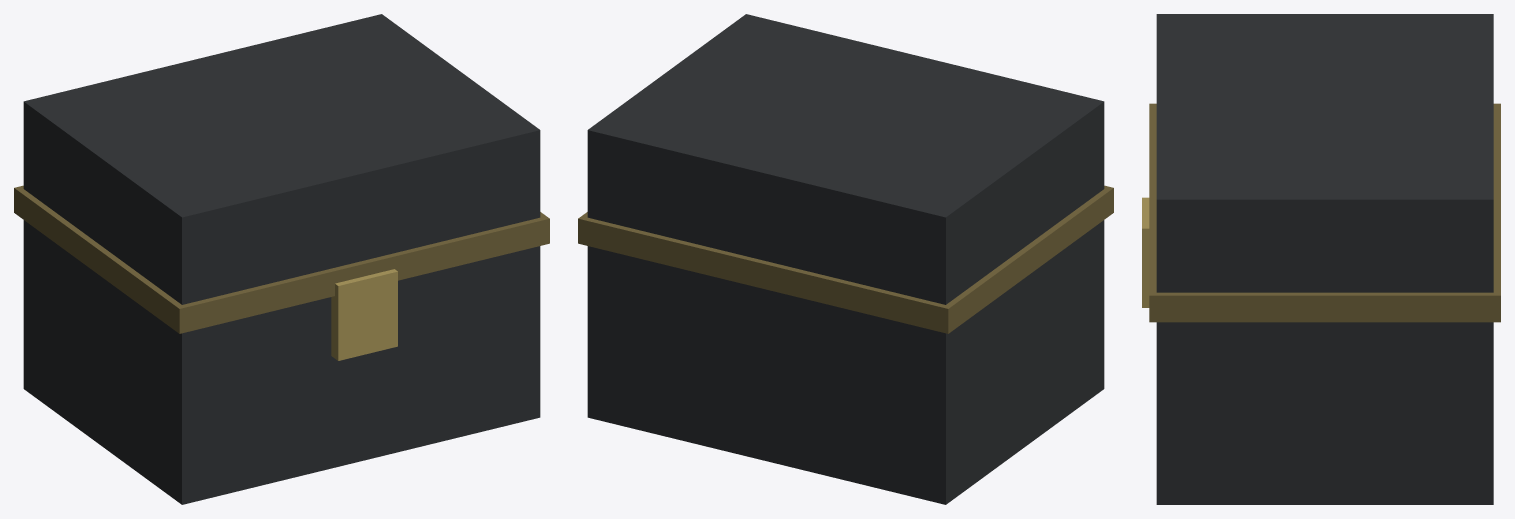
Rendered from strongbox.f0f676a5.glb.
3 renders of one model, left to right at view 1: azimuth 30°, elevation 25°; view 2: azimuth 150°, elevation 25°; view 3: azimuth 270°, elevation 25°, orthographic. The views are drawn at different scales.
Visible parts, largest first — view 1: body; view 2: body; view 3: body.
Boxes of the visible parts, x1=… form: body: x1=14, y1=14, x2=549, y2=504; body: x1=578, y1=14, x2=1113, y2=504; body: x1=1142, y1=14, x2=1500, y2=504.
Size of the model in its own units: 0.62 by 0.46 by 0.49.
